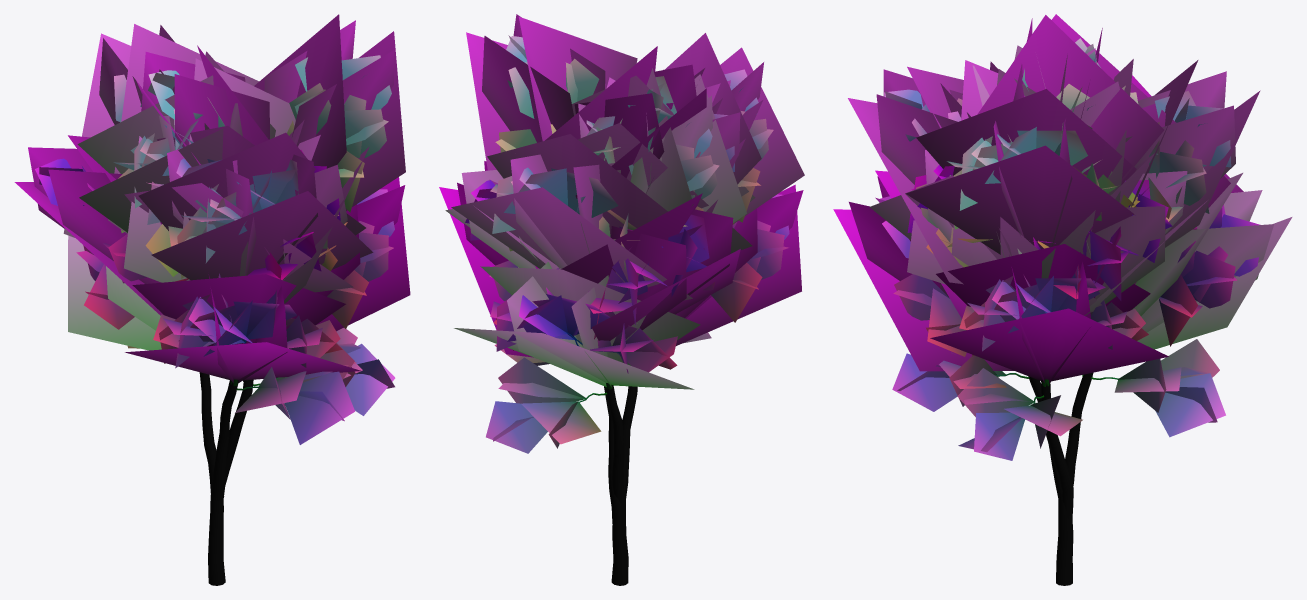
The model's file is oregonash_middle.fbx.
The picture shows the model from 3 angles, left to right: view 1: azimuth 30°, elevation 25°; view 2: azimuth 150°, elevation 25°; view 3: azimuth 270°, elevation 25°; orthographic projection. The views are drawn at different scales.
Parts seen in each view (by area): view 1: tree_shadow, tree_branches_lod0, tree_trunk_lod0; view 2: tree_shadow, tree_branches_lod0, tree_trunk_lod0; view 3: tree_shadow, tree_branches_lod0, tree_trunk_lod0.
Boxes of the visible parts, left/top/right/bottom form: tree_shadow: left=14, top=14, right=410, bottom=383; tree_branches_lod0: left=35, top=55, right=395, bottom=444; tree_trunk_lod0: left=199, top=372, right=253, bottom=585; tree_shadow: left=439, top=14, right=804, bottom=389; tree_branches_lod0: left=465, top=35, right=789, bottom=453; tree_trunk_lod0: left=604, top=383, right=637, bottom=585; tree_shadow: left=833, top=14, right=1292, bottom=383; tree_branches_lod0: left=875, top=38, right=1260, bottom=460; tree_trunk_lod0: left=1028, top=373, right=1093, bottom=585.
Size of what is drawn, in the model's own units: 12.88 by 19.57 by 14.71.
